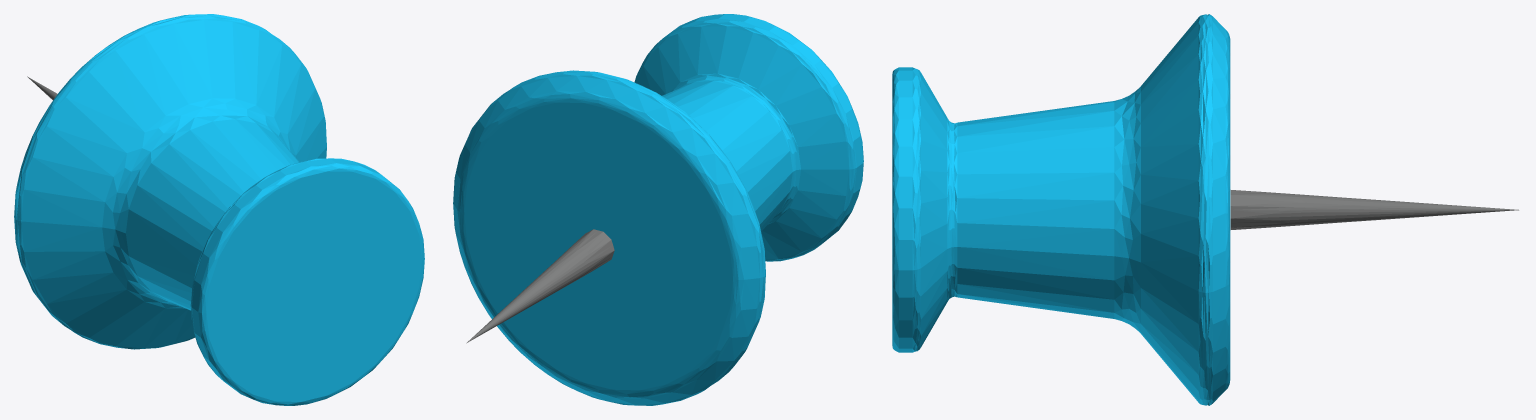
Rendered from tuding.fbx.
3 renders of one model, left to right at view 1: azimuth 30°, elevation 25°; view 2: azimuth 150°, elevation 25°; view 3: azimuth 270°, elevation 25°, orthographic. The views are drawn at different scales.
Parts seen in each view (by area): view 1: skp9340_1; view 2: skp9340_1, G_1_1_1; view 3: skp9340_1, G_1_1_1.
Part boxes in pixels (x1,y1,x2,y2): skp9340_1: (14,14,424,405); skp9340_1: (453,14,863,405); G_1_1_1: (466,229,614,343); skp9340_1: (892,14,1230,405); G_1_1_1: (1230,190,1518,229).
Bounding box in the file's own units: 0.6061 × 0.6049 × 0.9705.
